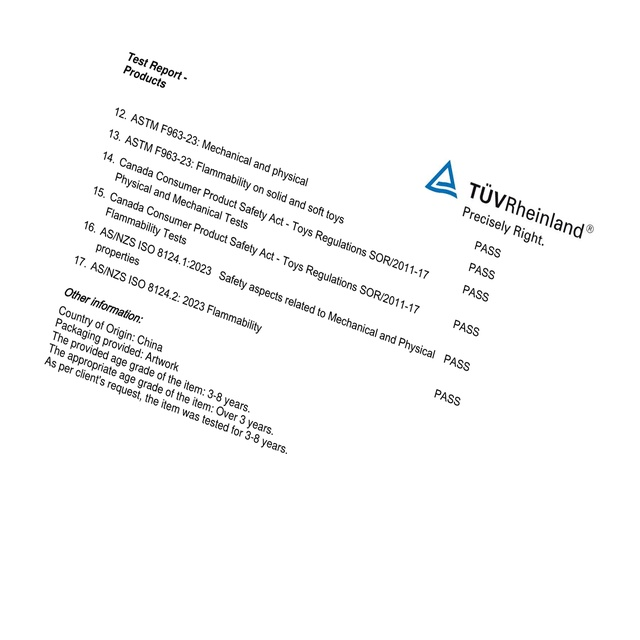tuv_rheinland: (424, 158, 593, 252)
